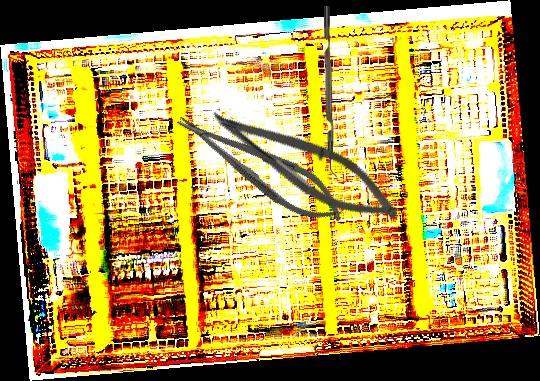Chopper: (323, 5, 341, 178)
Micro Scissor: (198, 98, 411, 234)
Needle Holder: (167, 99, 354, 236)
